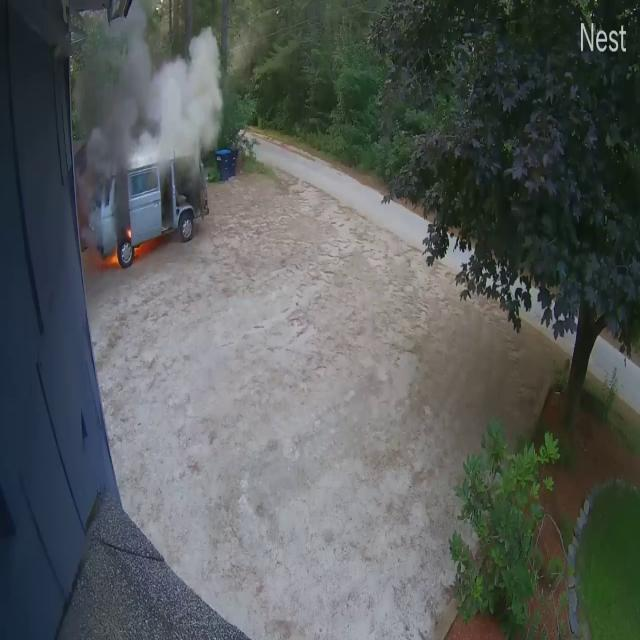Fire: (107, 241, 121, 271)
Smoke: (84, 12, 224, 238)
